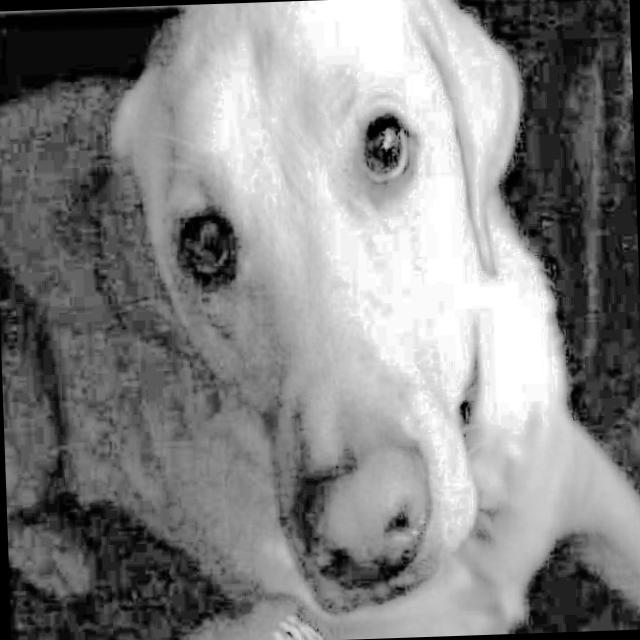Dog: (0, 0, 574, 632)
